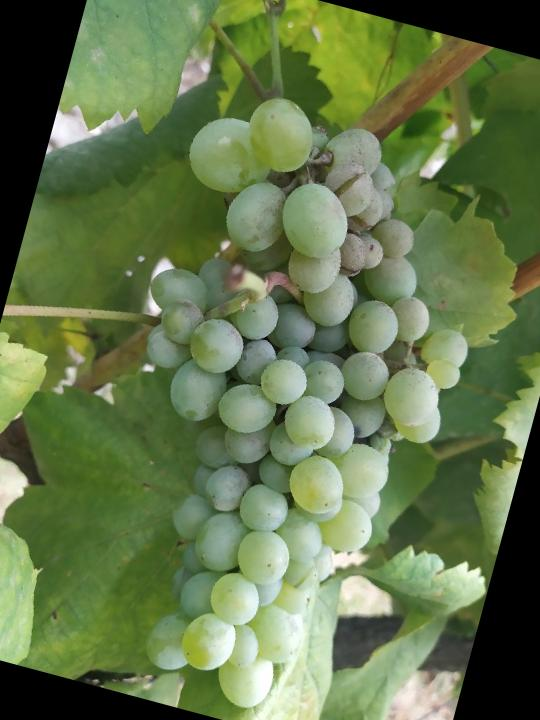grape: (47, 72, 526, 720)
